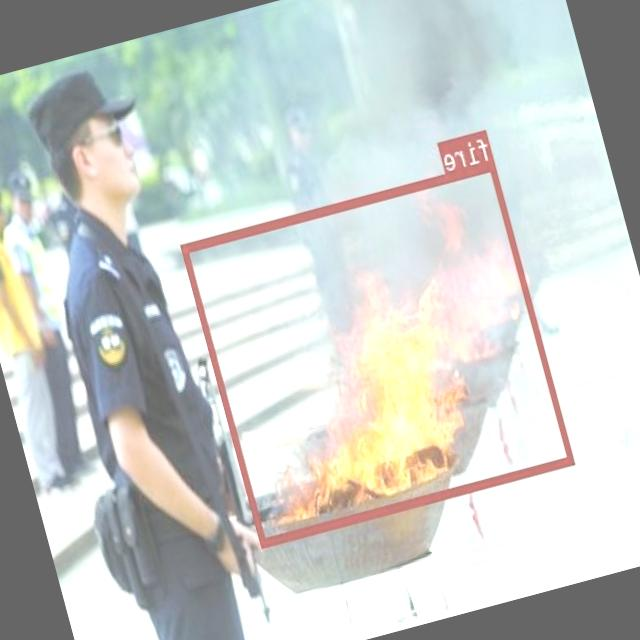fire: (182, 159, 576, 546)
